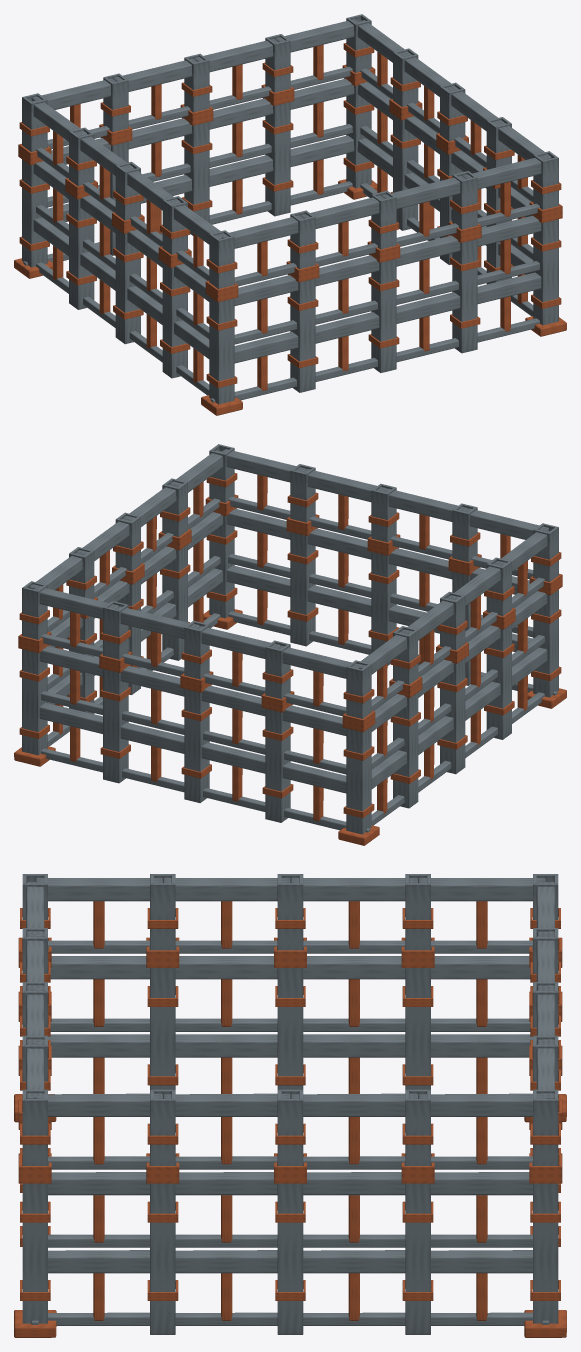
3 renders of one model, top to bottom at view 1: azimuth 30°, elevation 25°; view 2: azimuth 150°, elevation 25°; view 3: azimuth 270°, elevation 25°, orthographic. The views are drawn at different scales.
Parts seen in each view (by area): view 1: Tier 0 side 0 post 0, Tier 0 side 2 post 1, Tier 0 side 0 post 1, Tier 0 side 0 post 3, Tier 0 side 0 post 2, Tier 0 side 1 post 0, Tier 0 side 3 post 2, Tier 0 side 3 post 3, Tier 0 side 3 post 1, Tier 0 side 2 post 2, Tier 0 side 3 post 0, Tier 0 side 1 post 3 (+81 smaller); view 2: Tier 0 side 3 post 0, Tier 0 side 2 post 3, Tier 0 side 0 post 3, Tier 0 side 2 post 2, Tier 0 side 2 post 1, Tier 0 side 2 post 0, Tier 0 side 3 post 2, Tier 0 side 3 post 1, Tier 0 side 3 post 3, Tier 0 side 0 post 2, Tier 0 side 0 post 0, Tier 0 side 1 post 1 (+81 smaller); view 3: Tier 0 side 1 post 2, Tier 0 side 1 post 1, Tier 0 side 1 post 3, Tier 0 side 1 post 0, Tier 0 side 2 post 0, Tier 0 side 3 post 2, Tier 0 side 3 post 1, Tier 0 side 3 post 3, Tier 1 bay 3-0-1 box girder, Tier 1 bay 3-0-2 box girder, Tier 1 bay 3-0-3 box girder, Tier 1 bay 3-0-0 box girder (+66 smaller).
Part boxes in pixels (x1,y1,x2,y2): Tier 0 side 0 post 0: (209, 296, 234, 404); Tier 0 side 2 post 1: (265, 102, 290, 216); Tier 0 side 0 post 1: (290, 278, 315, 392); Tier 0 side 0 post 3: (452, 239, 477, 353); Tier 0 side 0 post 2: (371, 259, 396, 372); Tier 0 side 1 post 0: (533, 219, 558, 325); Tier 0 side 3 post 2: (115, 228, 140, 344); Tier 0 side 3 post 3: (162, 262, 187, 378); Tier 0 side 3 post 1: (69, 194, 94, 309); Tier 0 side 2 post 2: (184, 122, 209, 235); Tier 0 side 3 post 0: (22, 159, 47, 267); Tier 0 side 1 post 3: (393, 114, 418, 230); Tier 0 side 3 post 0: (346, 726, 371, 834); Tier 0 side 2 post 3: (265, 708, 290, 822); Tier 0 side 0 post 3: (290, 532, 315, 646); Tier 0 side 2 post 2: (184, 689, 209, 802); Tier 0 side 2 post 1: (103, 669, 128, 783); Tier 0 side 2 post 0: (22, 649, 47, 755); Tier 0 side 3 post 2: (440, 658, 465, 774); Tier 0 side 3 post 1: (393, 692, 418, 808); Tier 0 side 3 post 3: (486, 624, 511, 739); Tier 0 side 0 post 2: (371, 552, 396, 665); Tier 0 side 0 post 0: (533, 589, 558, 697); Tier 0 side 1 post 1: (162, 544, 187, 660); Tier 0 side 1 post 2: (277, 1183, 303, 1334); Tier 0 side 1 post 1: (150, 1183, 175, 1334); Tier 0 side 1 post 3: (405, 1183, 430, 1334); Tier 0 side 1 post 0: (22, 1183, 47, 1323); Tier 0 side 2 post 0: (533, 1183, 558, 1323); Tier 0 side 3 post 2: (277, 968, 303, 1089); Tier 0 side 3 post 1: (405, 968, 430, 1089); Tier 0 side 3 post 3: (150, 968, 175, 1089); Tier 1 bay 3-0-1 box girder: (290, 878, 417, 901); Tier 1 bay 3-0-2 box girder: (163, 878, 290, 901); Tier 1 bay 3-0-3 box girder: (35, 878, 162, 901); Tier 1 bay 3-0-0 box girder: (418, 878, 545, 901).
Size of the model in its own units: 1.95 by 0.9125 by 1.95.
Materials: 2 (2 with a texture image).
